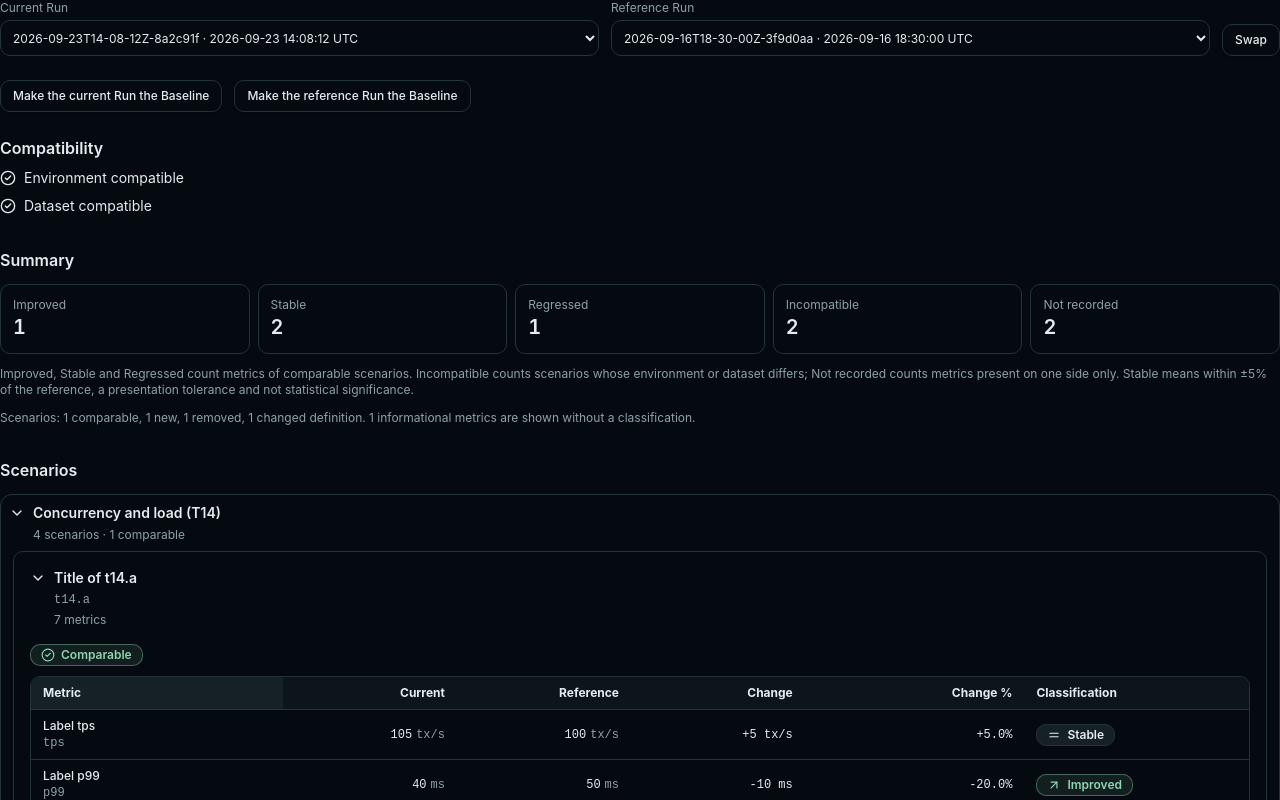
Test case: the Benchmark Comparison › selection › offers to make either compared Run the Baseline
This screenshot has width=1280, height=800.
Expected: the heading "Compatibility" is shown, [0, 138, 103, 158]
Expected: the button "Make the reference Run the Baseline" is shown, [234, 80, 470, 112]
Click the button "Make the current Run the Baseline" at (111, 96), box [0, 80, 222, 112]
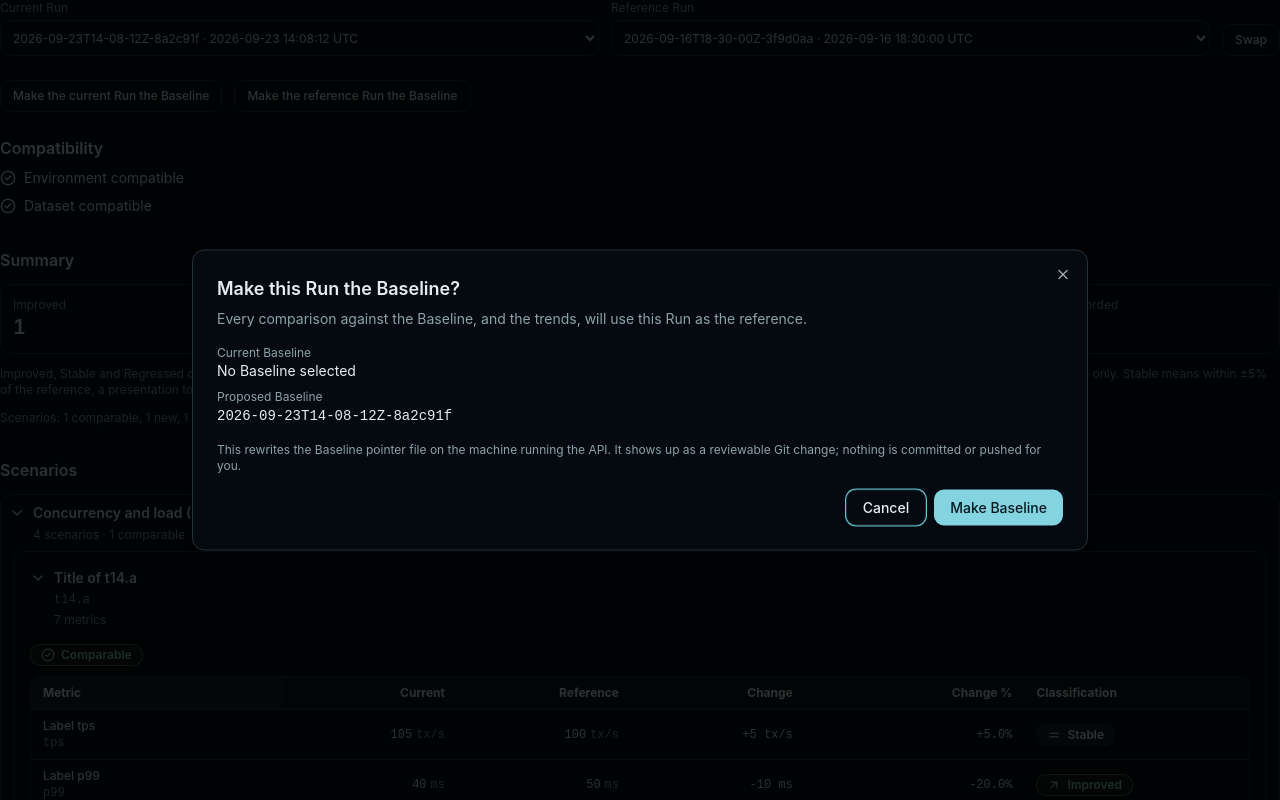
Expected: the text "2026-09-23T14-08-12Z-8a2c91f" is shown, [217, 408, 452, 424]
Expected: the dialog shows "reviewable Git change", [217, 442, 1041, 472]
